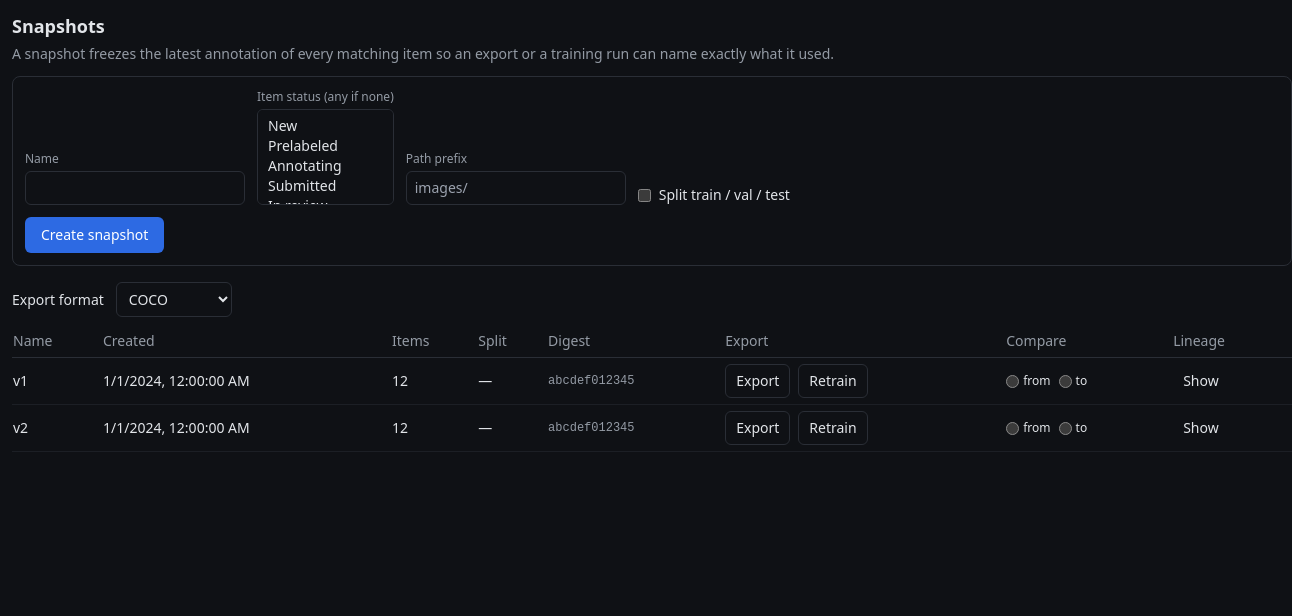
Test: SnapshotsPanel › compares two snapshots once both sides are picked
This screenshot has width=1292, height=616.
Expected: the row with test id "snapshot-row-s1" is shown, top-left (12, 358), bottom-right (1291, 404)
Click the radio button with aria-label "Compare from v1" at (1013, 381), box top-left (1006, 374), bottom-right (1019, 388)
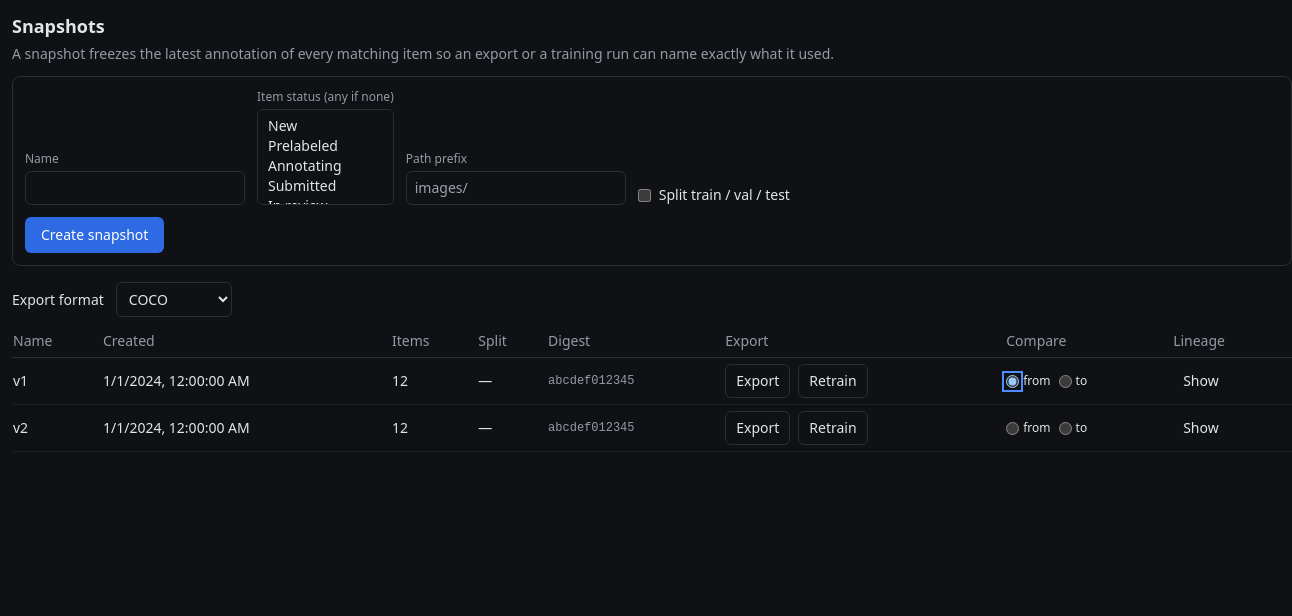
Click the radio button with aria-label "Compare to v2" at (1065, 428), box top-left (1058, 422), bottom-right (1072, 434)
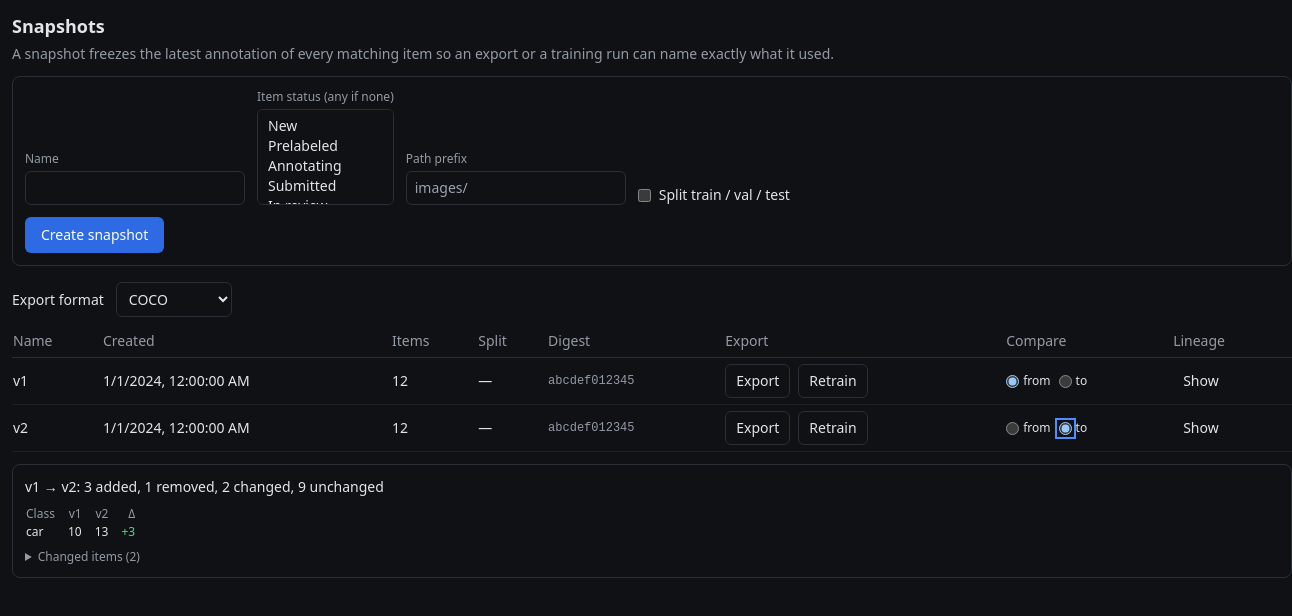
Now the element named "Snapshot comparison" shows "3 added, 1 removed, 2 changed, 9 unchanged", box top-left (84, 477), bottom-right (384, 496)
Now the element named "Snapshot comparison" shows "+3", box top-left (121, 523), bottom-right (135, 540)
Click the heading "Changed items (2)" at (89, 556), box top-left (38, 548), bottom-right (140, 565)
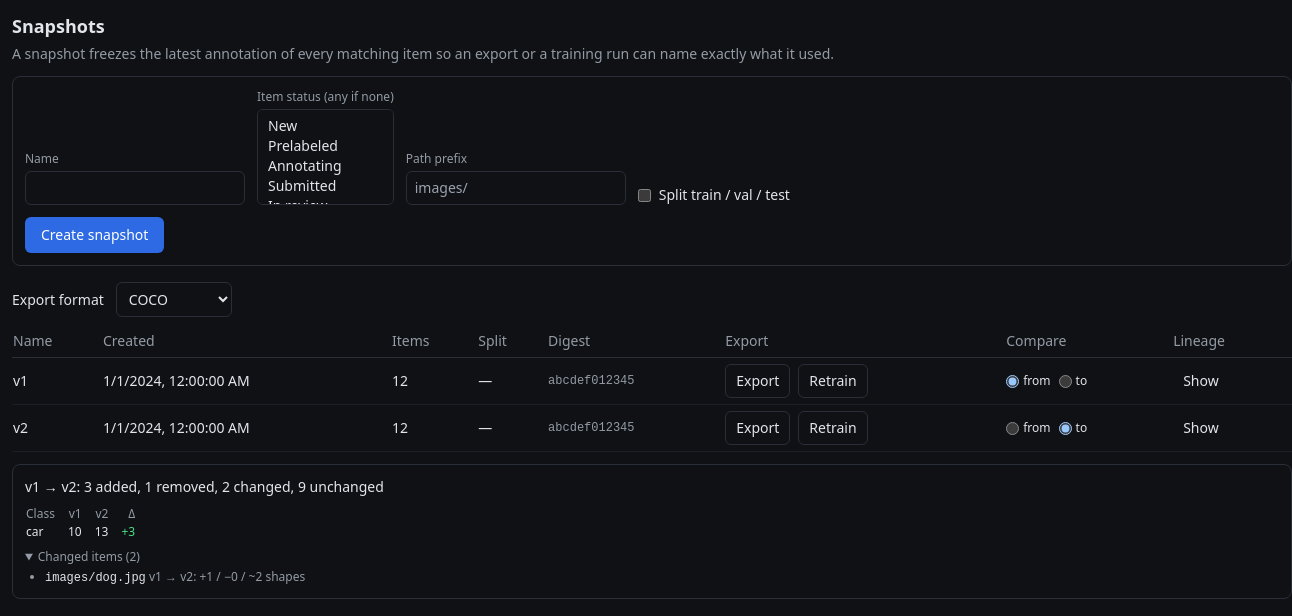
Now the element named "Snapshot comparison" shows "images/dog.jpg", box top-left (45, 571), bottom-right (146, 585)
